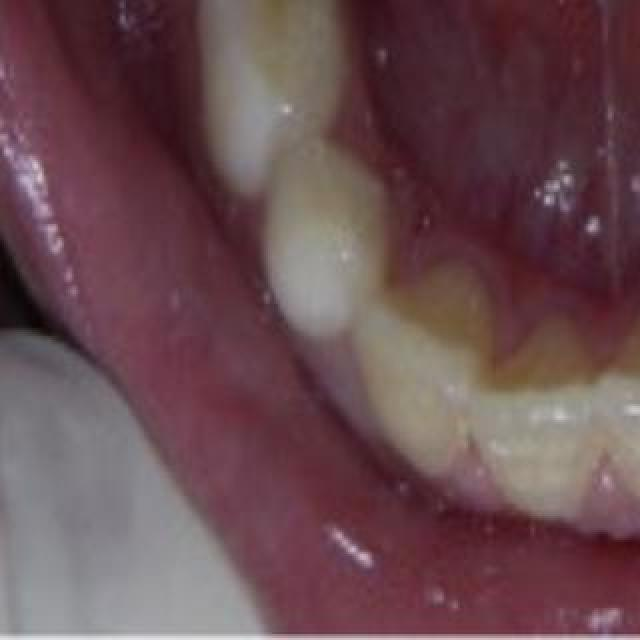cavities: (192, 0, 340, 82)
plaque: (368, 388, 640, 558)
